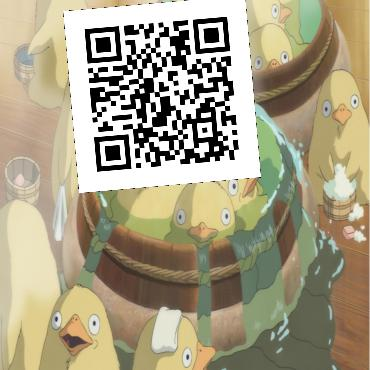qr_code: (63, 0, 260, 195)
